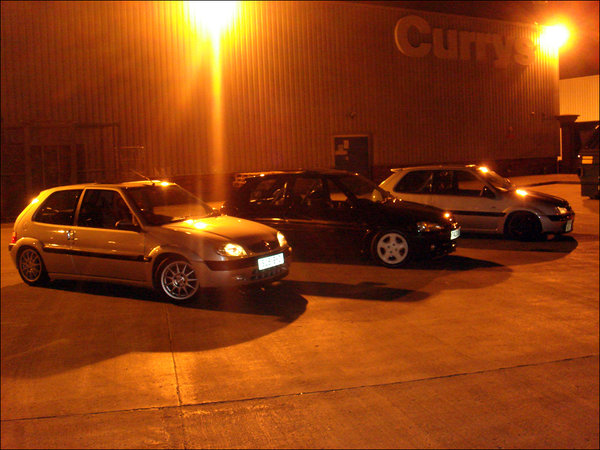car: (7, 174, 302, 309)
